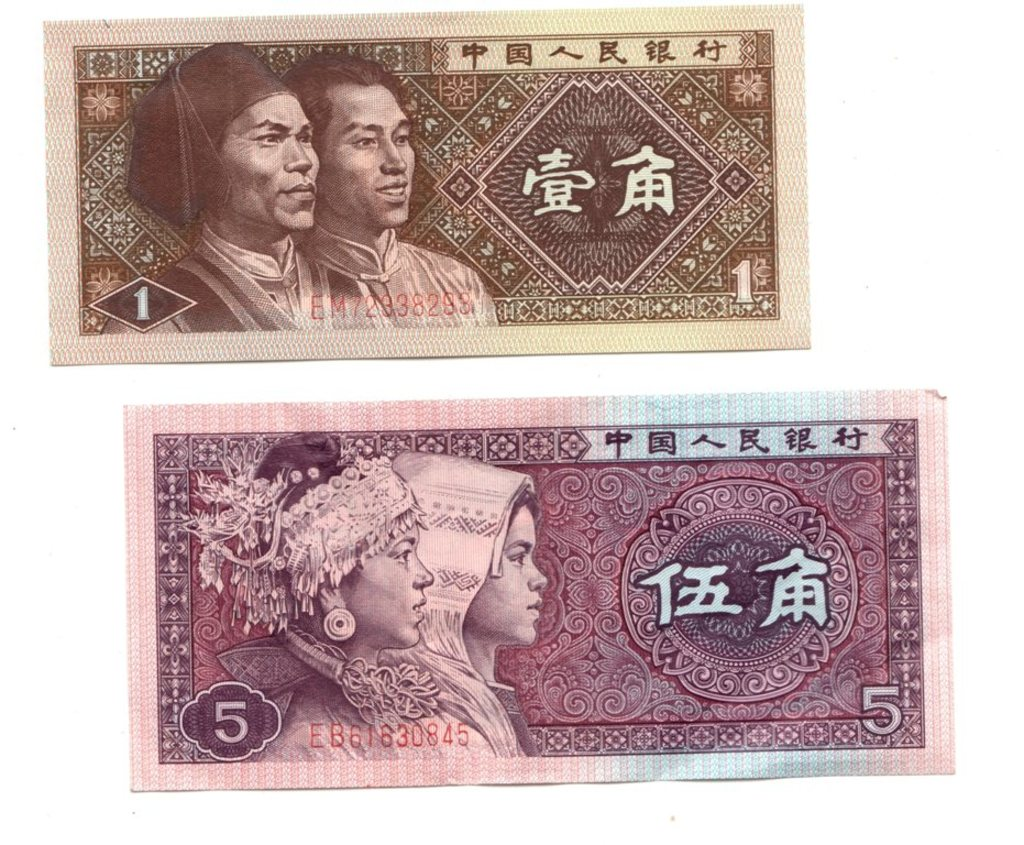Person: (195, 431, 469, 763), (94, 43, 319, 330), (291, 50, 497, 330), (381, 447, 550, 763)
